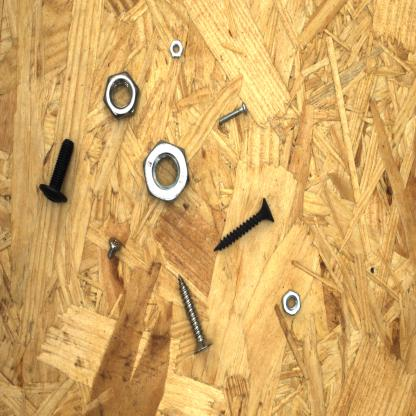screw: (211, 194, 278, 254), (174, 271, 216, 358), (36, 134, 78, 208), (214, 98, 250, 126), (104, 233, 125, 260)
